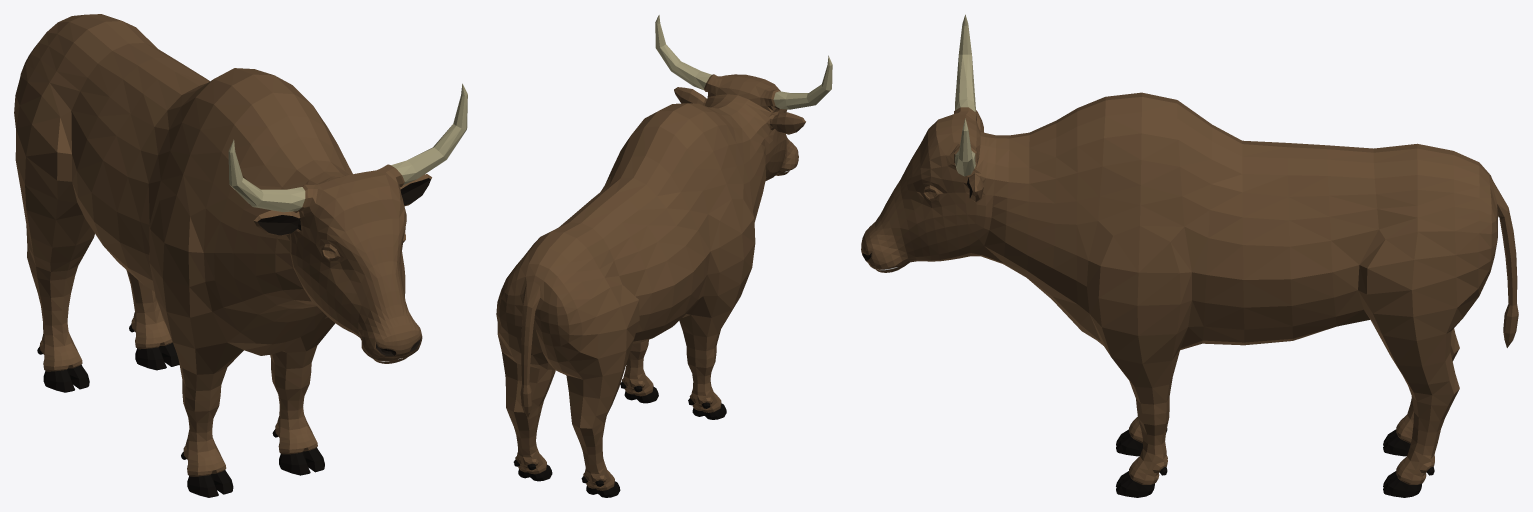
Rendered from yak_yak_triangulated.obj.
The picture shows the model from 3 angles, left to right: view 1: azimuth 30°, elevation 25°; view 2: azimuth 150°, elevation 25°; view 3: azimuth 270°, elevation 25°; orthographic projection. The views are drawn at different scales.
Bounding box in the file's own units: 1.22 × 2.11 × 3.13.
